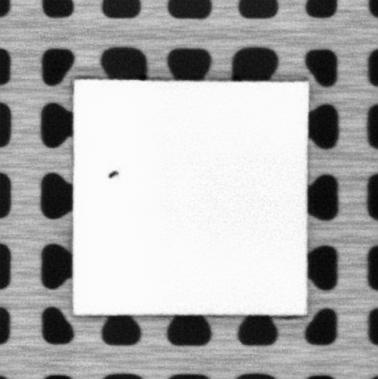DIE_INK: (107, 167, 119, 179)
